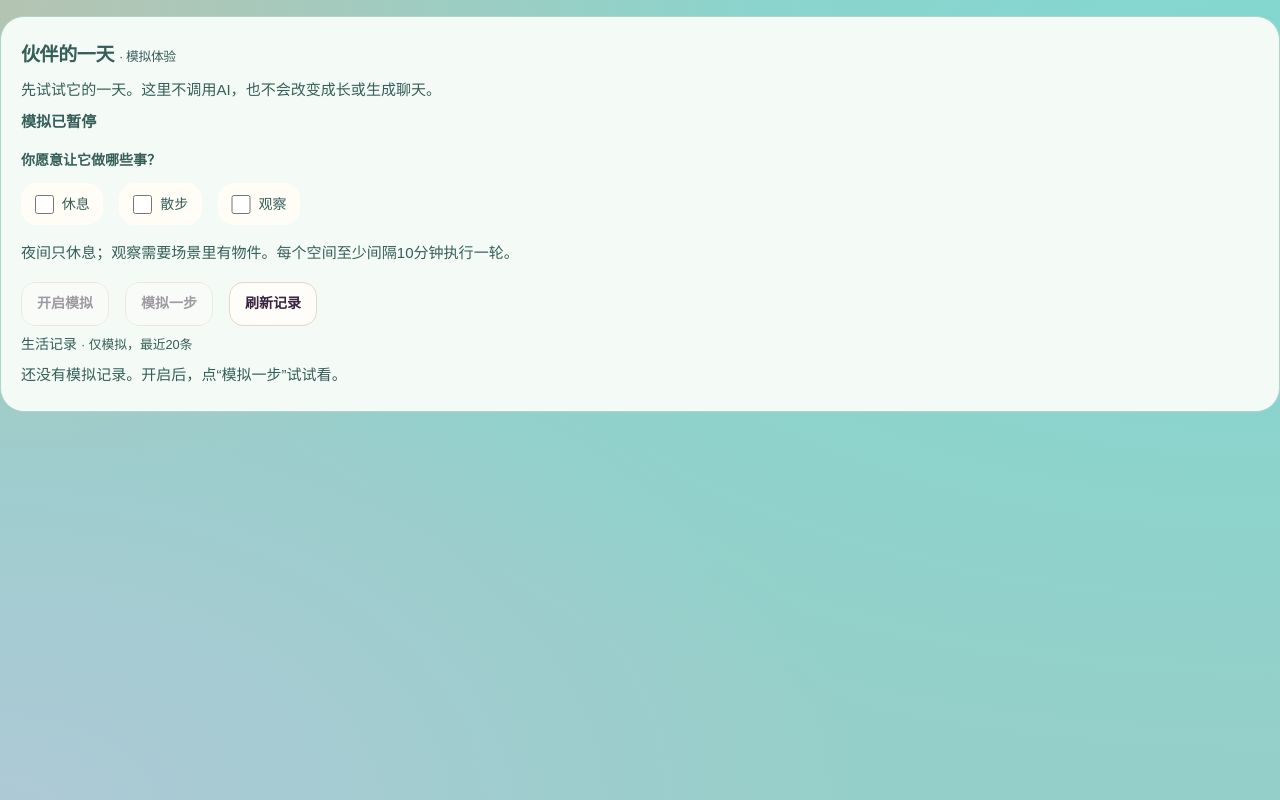
Test: saves explicit scope, shows only confirmed events, pauses and preserves records
Expected: the text "模拟已暂停" is shown, top-left (21, 112), bottom-right (96, 130)
Click the checkbox labelled "休息" at (44, 204), box top-left (35, 195), bottom-right (54, 214)
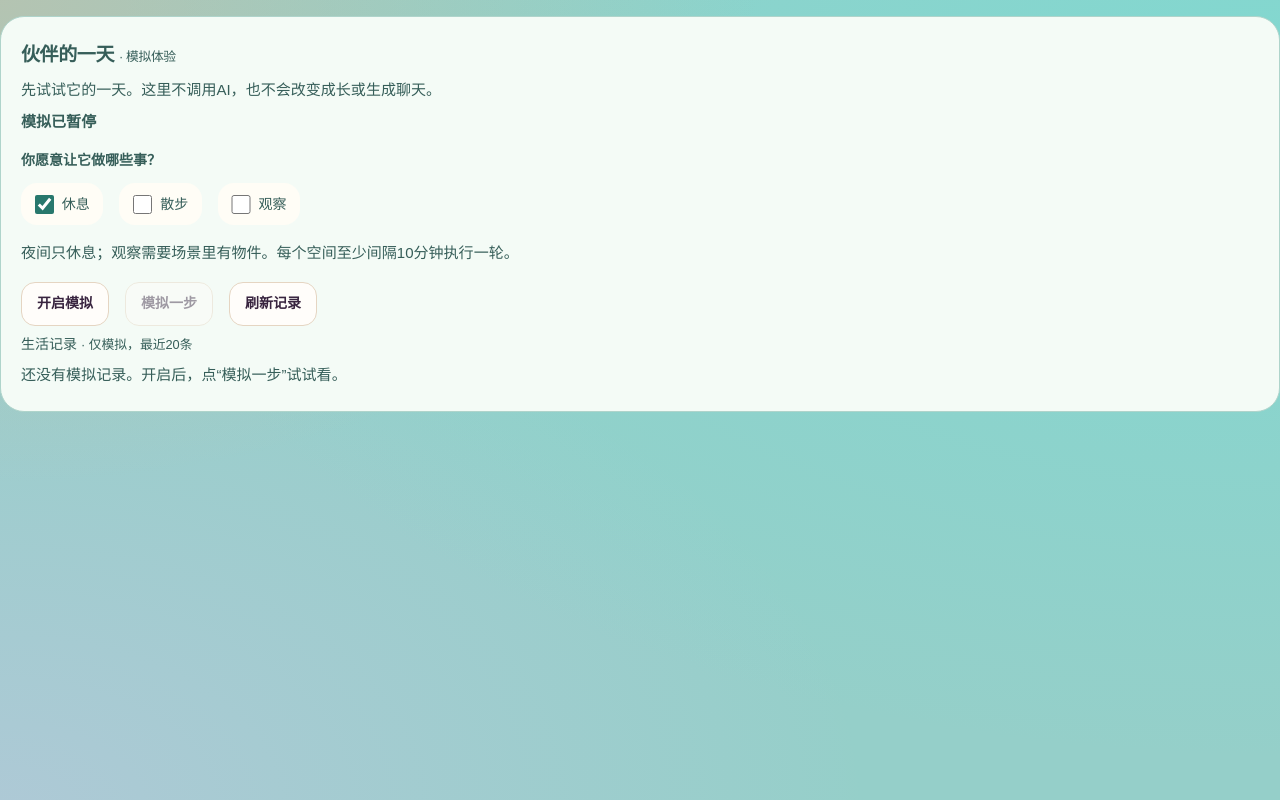
Click the button "开启模拟" at (65, 304), box top-left (21, 282), bottom-right (109, 326)
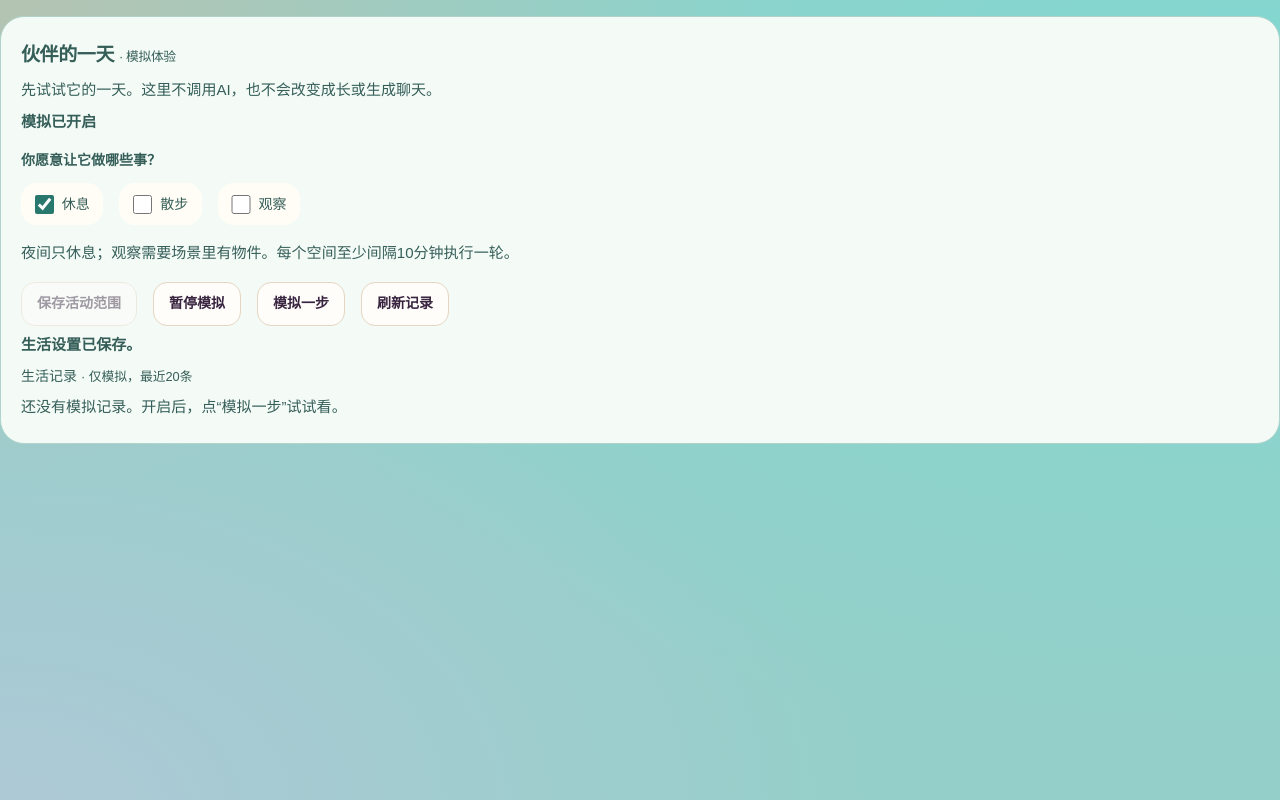
Now the text "模拟已开启" is shown, box top-left (21, 112), bottom-right (96, 130)
Click the button "模拟一步" at (301, 304), box top-left (257, 282), bottom-right (345, 326)
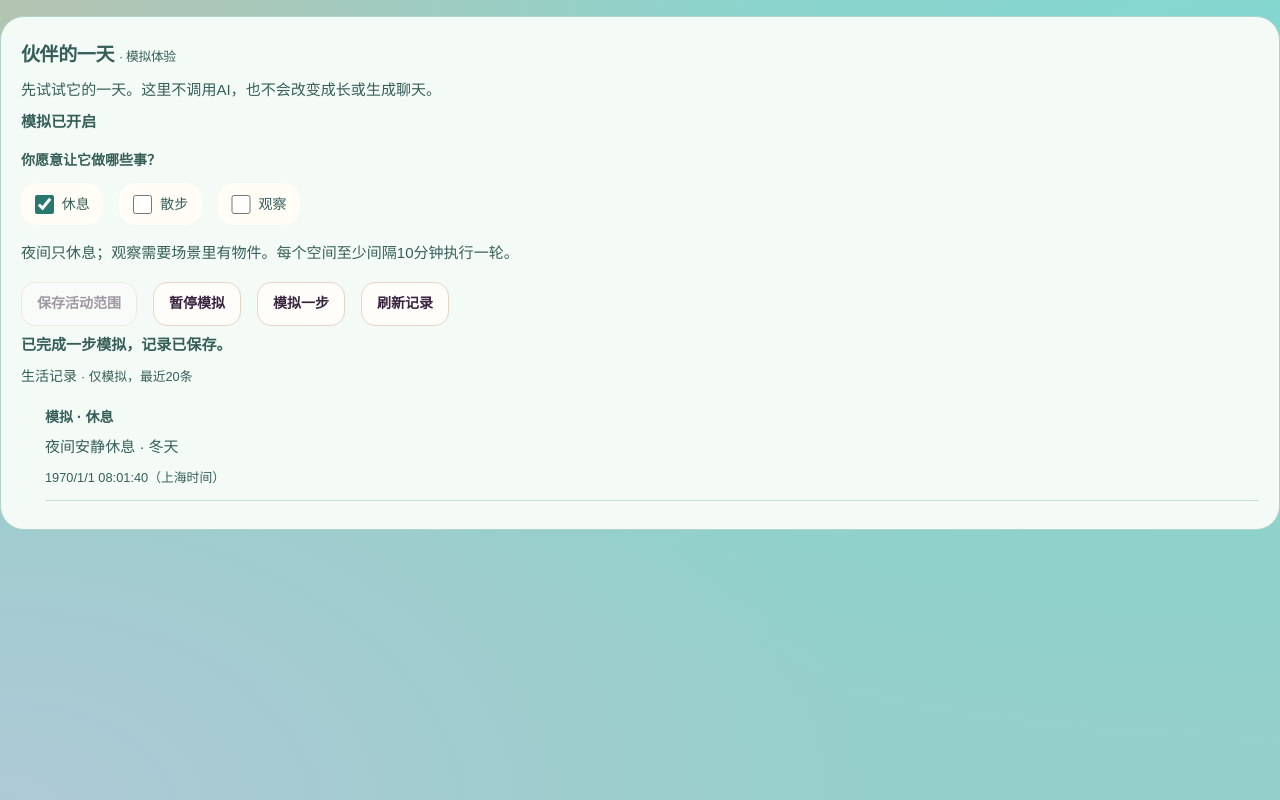
Now the text "模拟 · 休息" is shown, box top-left (45, 409), bottom-right (114, 425)
Now the text "夜间安静休息 · 冬天" is shown, box top-left (45, 438), bottom-right (179, 455)
Click the button "暂停模拟" at (197, 304), box top-left (153, 282), bottom-right (241, 326)
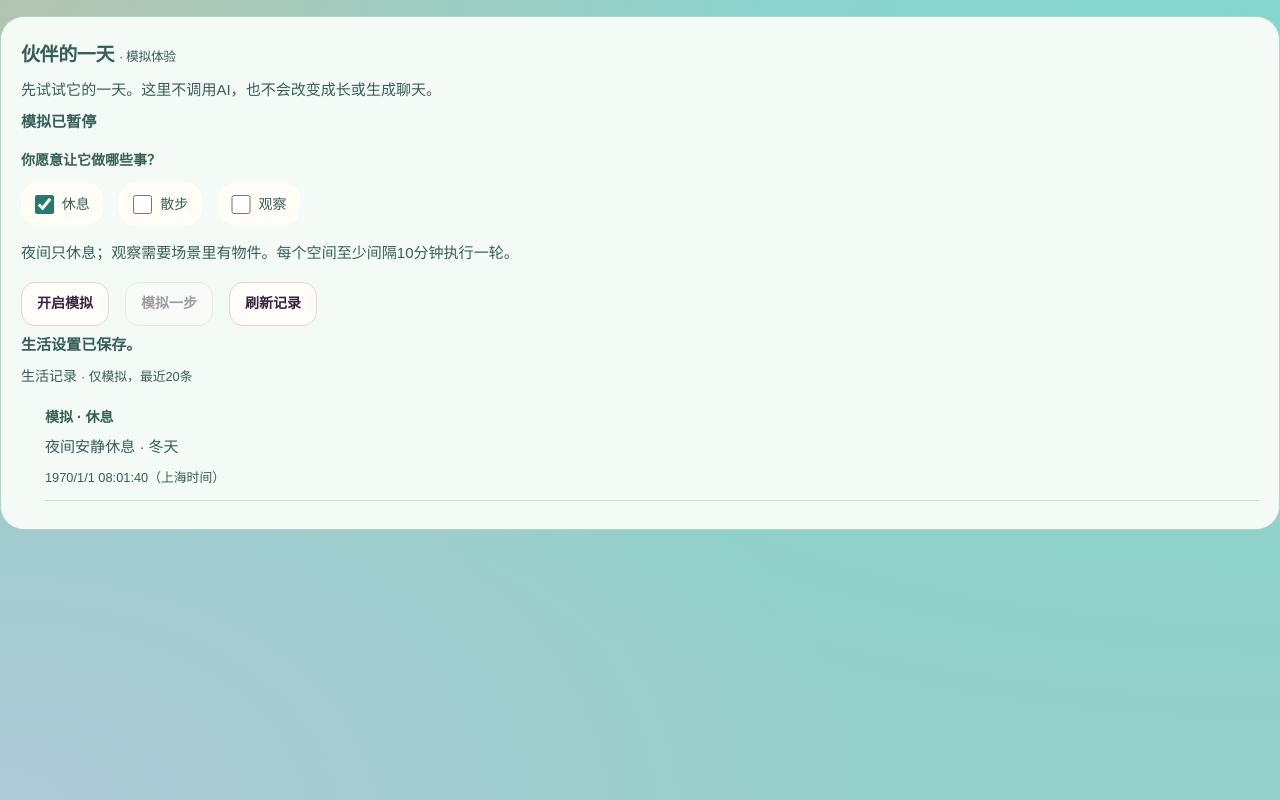
Now the text "模拟 · 休息" is shown, box top-left (45, 409), bottom-right (114, 425)
Now the text "模拟已暂停" is shown, box top-left (21, 112), bottom-right (96, 130)
Now the button "模拟一步" is disabled, box top-left (125, 282), bottom-right (213, 326)
